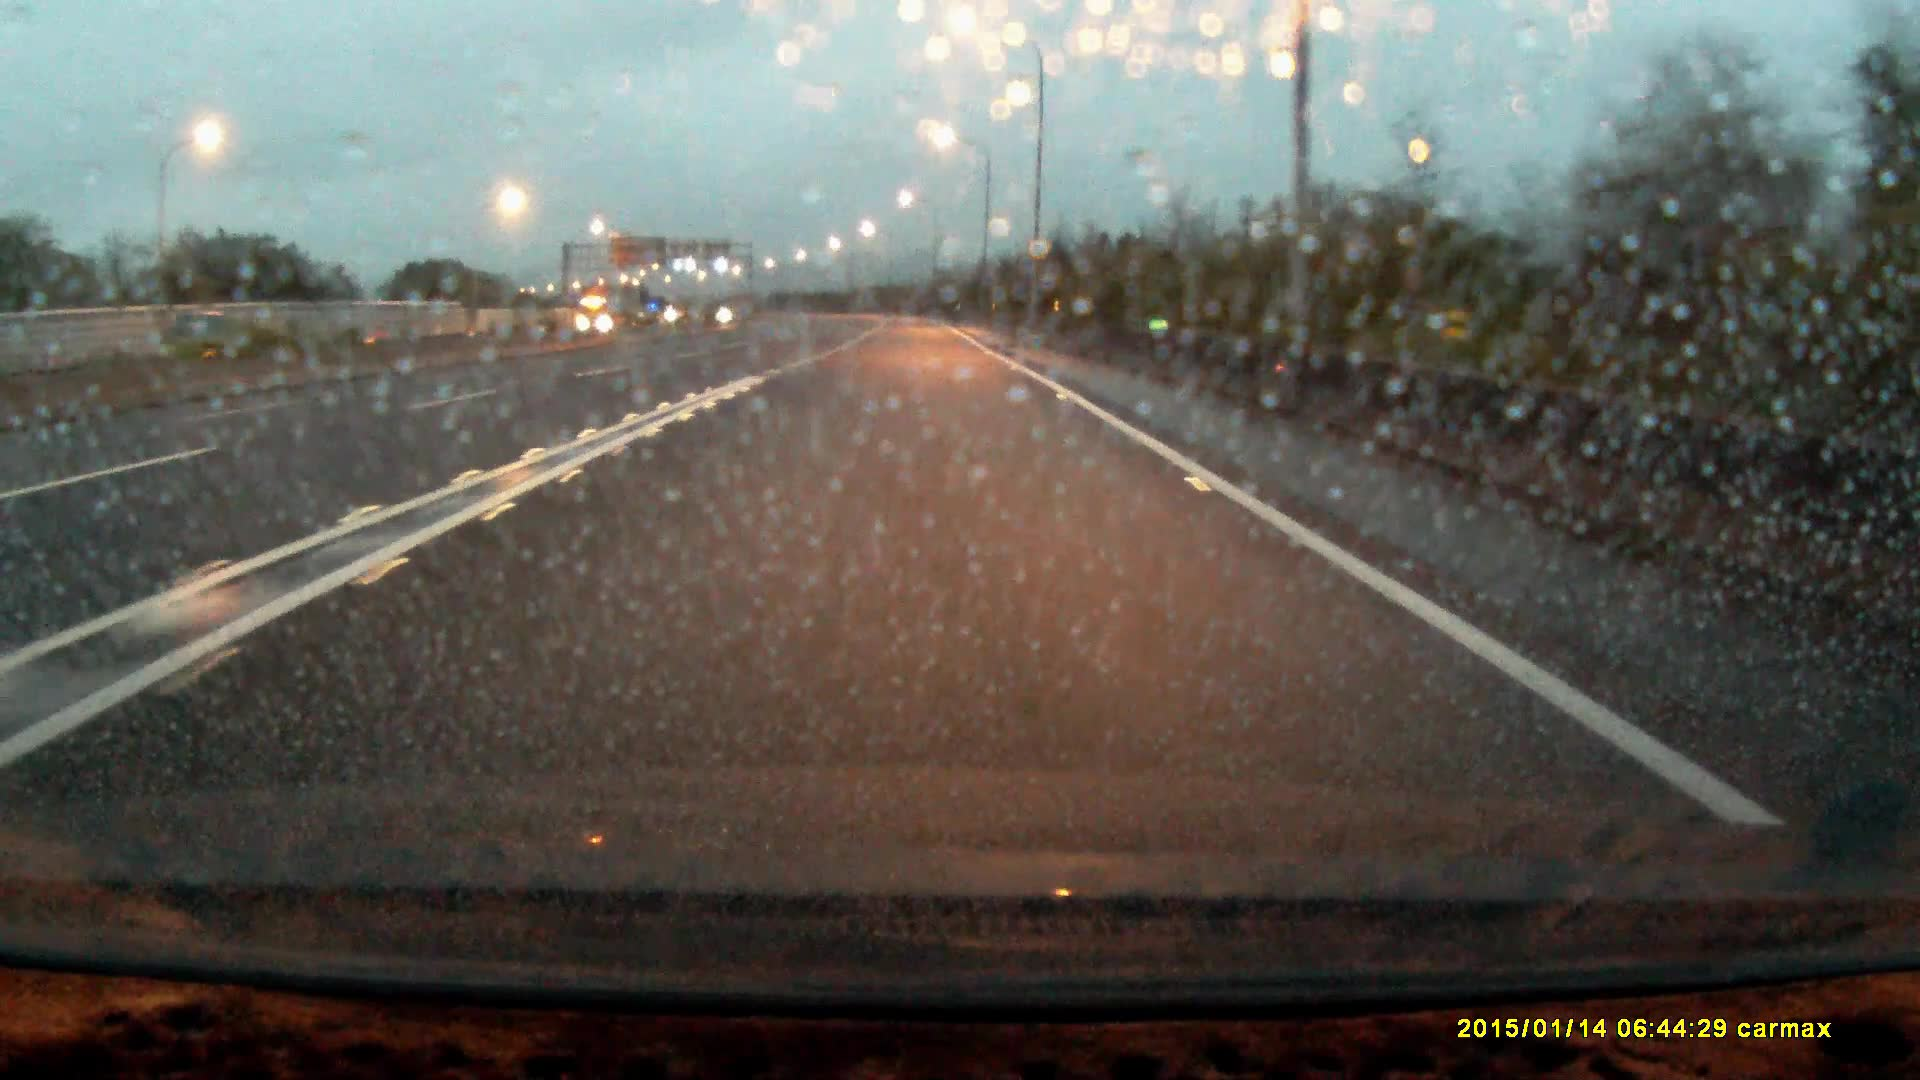vehicle: (575, 295, 622, 342)
